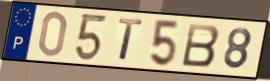0: (36, 10, 69, 59)
5: (74, 12, 109, 62), (147, 19, 180, 69)
8: (223, 27, 254, 71)
B: (180, 21, 222, 69)
T: (117, 17, 145, 63)
